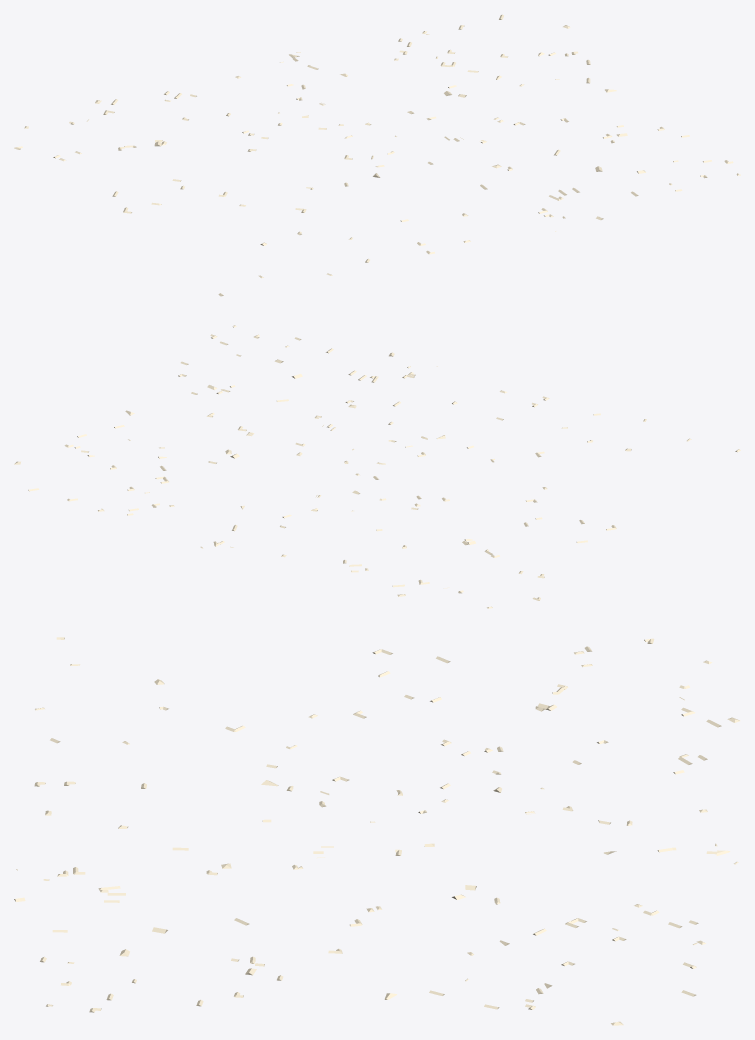
Rendered from FaitageArdoise_4.obj.
The picture shows the model from 3 angles, top to bottom: view 1: azimuth 30°, elevation 25°; view 2: azimuth 150°, elevation 25°; view 3: azimuth 270°, elevation 25°; orthographic projection. The views are drawn at different scales.
Visible parts, largest first — view 1: FaitageArdoise_4; view 2: FaitageArdoise_4; view 3: FaitageArdoise_4.
Part boxes in pixels (bbox=[...]): FaitageArdoise_4: bbox=[14, 14, 740, 296]; FaitageArdoise_4: bbox=[14, 325, 740, 608]; FaitageArdoise_4: bbox=[14, 637, 740, 1025].
Bounding box in the file's own units: 2483 × 75.66 × 1982.
